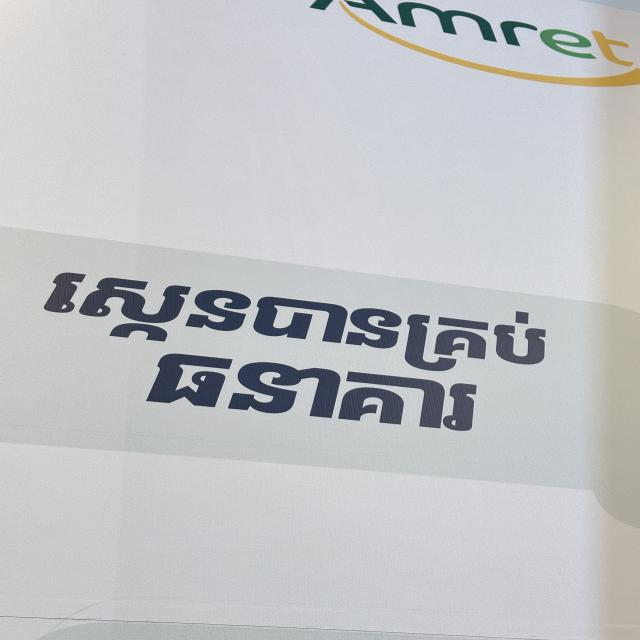Yolov11kh: (20, 262, 560, 381), (120, 346, 498, 459)
